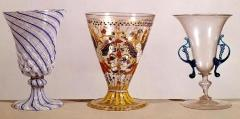glass: (2, 8, 234, 114)
